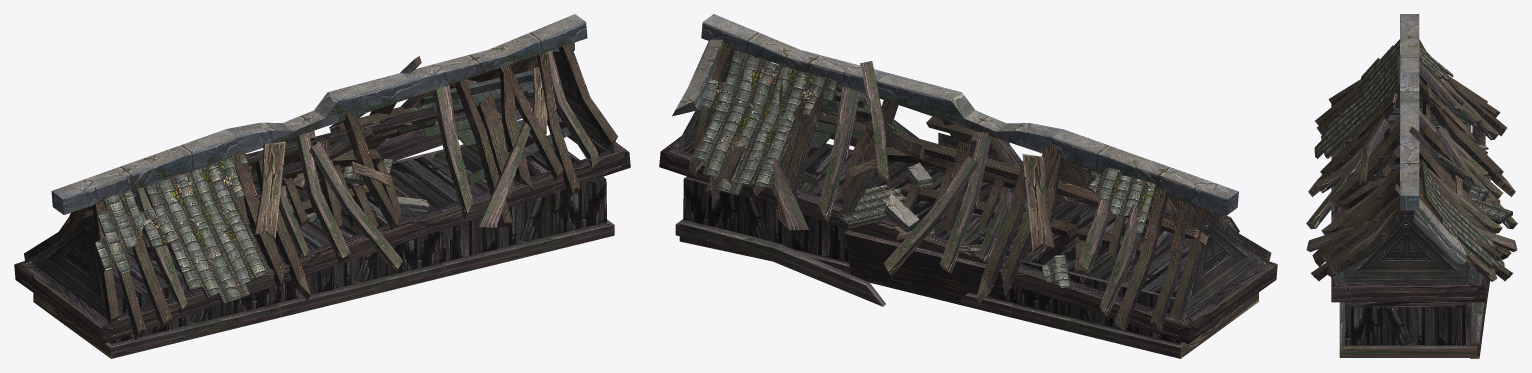
The model's file is Item_2.FBX.
3 renders of one model, left to right at view 1: azimuth 30°, elevation 25°; view 2: azimuth 150°, elevation 25°; view 3: azimuth 270°, elevation 25°, orthographic. The views are drawn at different scales.
Parts seen in each view (by area): view 1: Object010; view 2: Object010; view 3: Object010.
Part boxes in pixels (x1,y1,x2,y2): Object010: [14, 14, 630, 358]; Object010: [659, 14, 1277, 358]; Object010: [1306, 14, 1517, 358].
Bounding box in the file's own units: 637 × 231 × 251.
